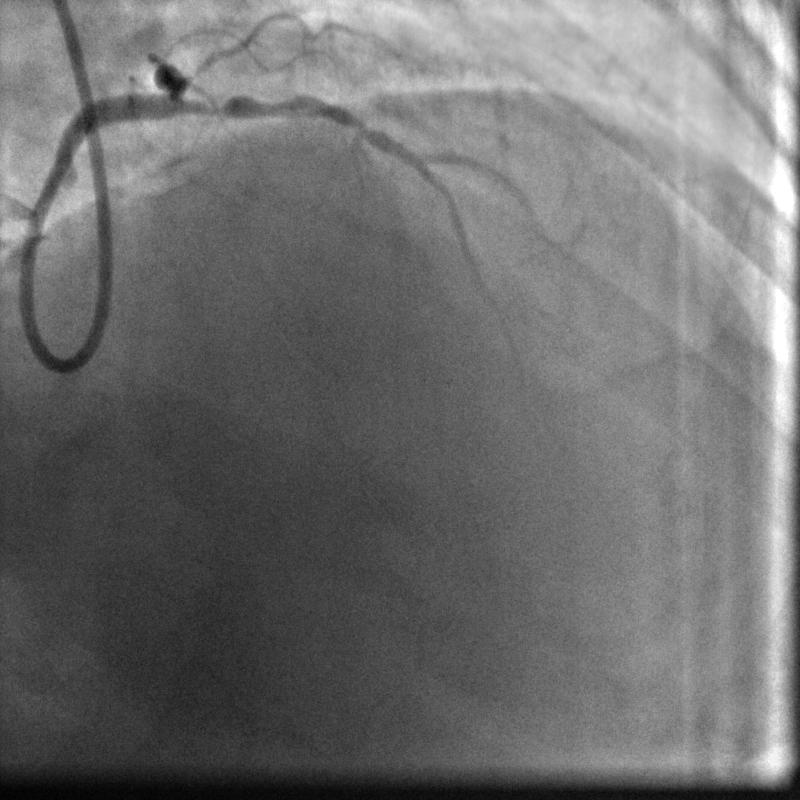Stenosis: (195, 90, 302, 121)
